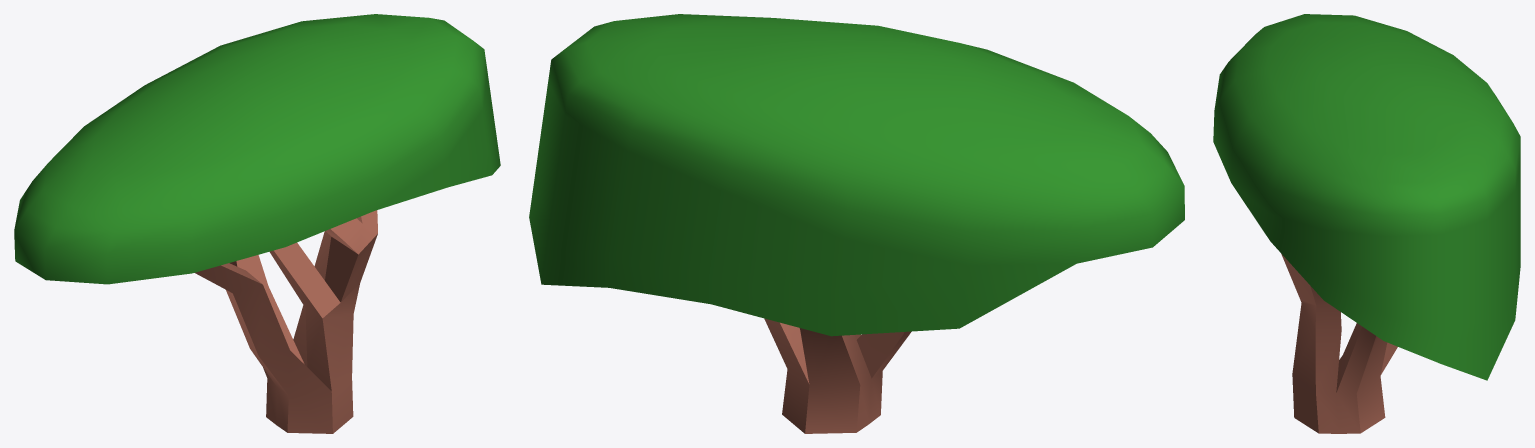
The model's file is M_tree_01.fbx.
The picture shows the model from 3 angles, left to right: view 1: azimuth 30°, elevation 25°; view 2: azimuth 150°, elevation 25°; view 3: azimuth 270°, elevation 25°; orthographic projection. The views are drawn at different scales.
Visible parts, largest first — view 1: M_lief_green_02, M_tree_01; view 2: M_lief_green_02, M_tree_01; view 3: M_lief_green_02, M_tree_01.
Boxes of the visible parts, x1,y1,x2,y2 form: M_lief_green_02: (14,14,500,284); M_tree_01: (195,210,377,433); M_lief_green_02: (529,14,1184,336); M_tree_01: (764,318,911,433); M_lief_green_02: (1213,14,1520,380); M_tree_01: (1281,253,1397,433).
Size of the model in its own units: 1653 by 1062 by 891.
